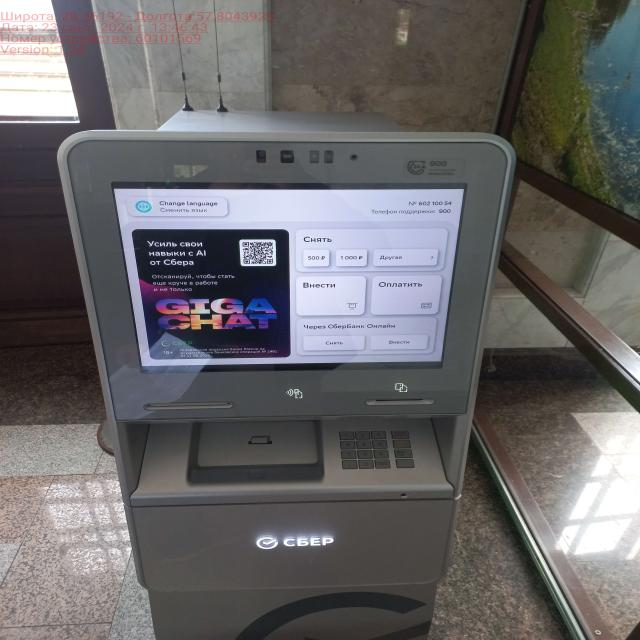bank: (53, 106, 515, 640)
